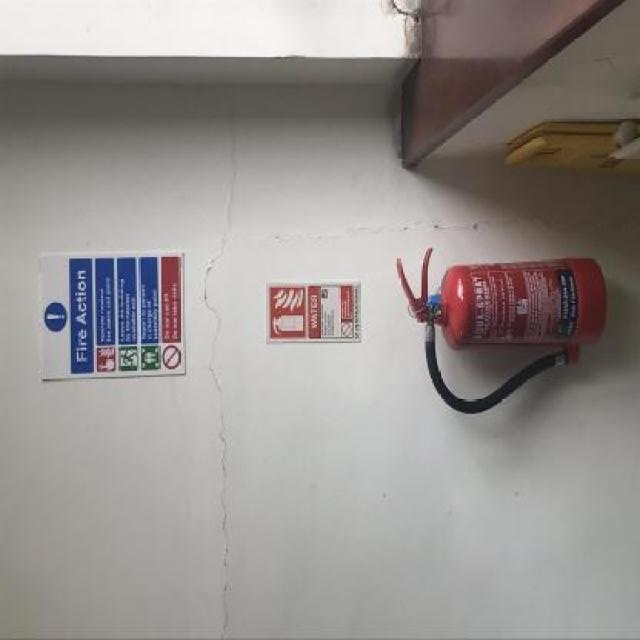fire extinguisher: (397, 245, 608, 413)
